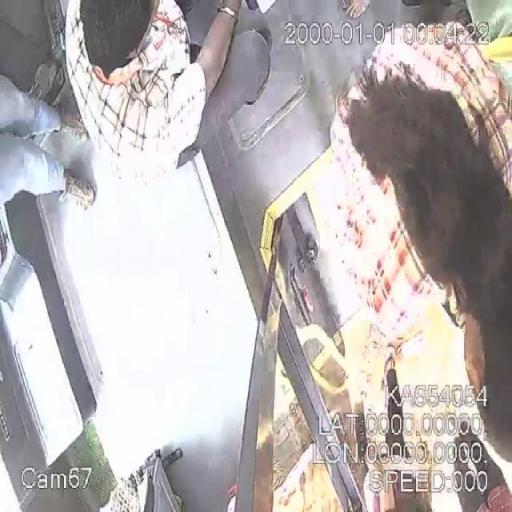persona: (328, 22, 511, 468), (62, 0, 244, 184)
